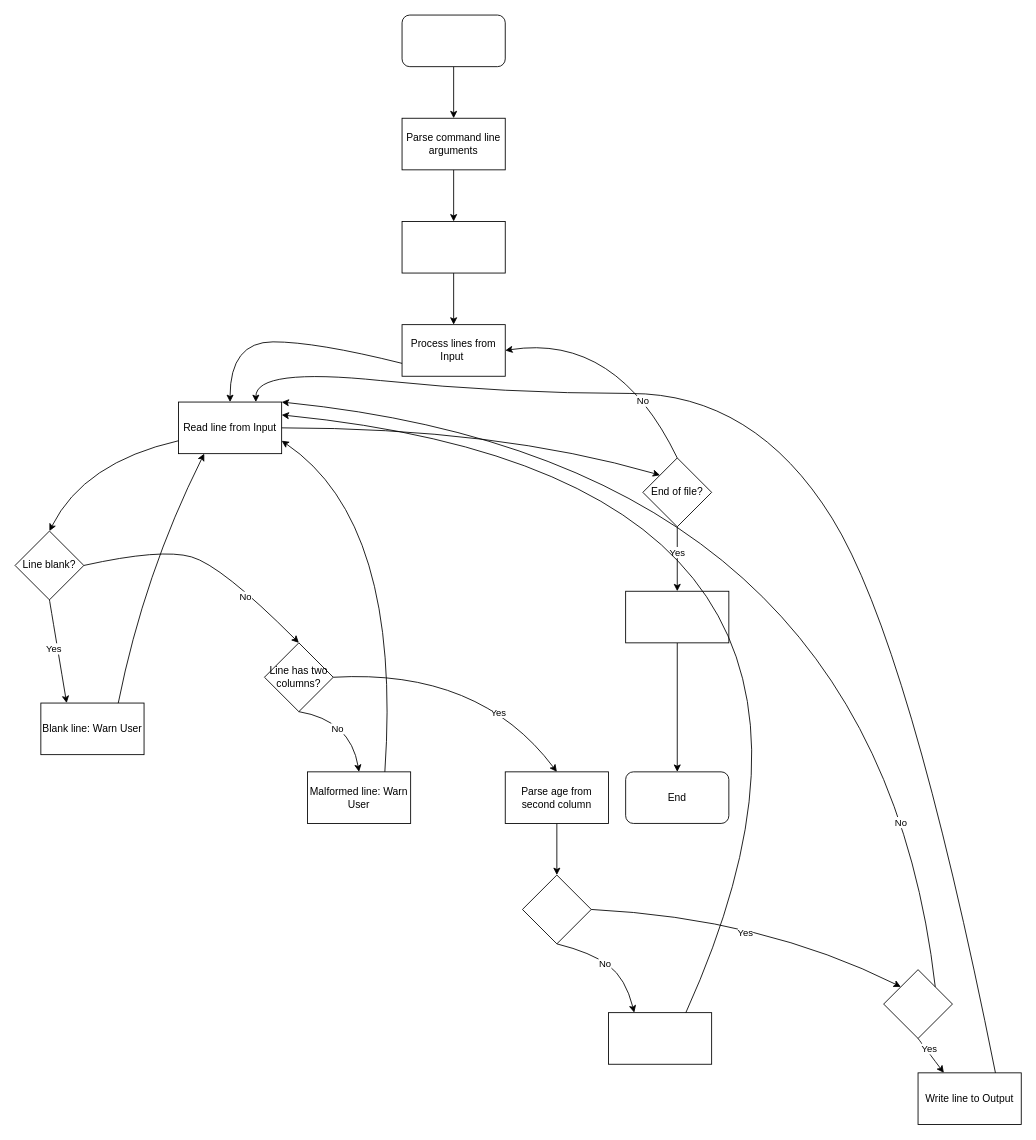
Some shapes in this 1036 by 1140 pixel diagram are drawn without their labels. The shapes that lost their labels are listed below. From the top down, each one's box as (x1, y1, x2, y2) in pixels, then its label:
(401, 14, 505, 67): Start
(401, 221, 505, 273): Open Input/Ouput files
(625, 590, 729, 643): Close files
(522, 874, 591, 944): Age valid number?
(883, 969, 952, 1038): Age =< filter age?
(608, 1012, 712, 1064): Invalid age: Warn User
